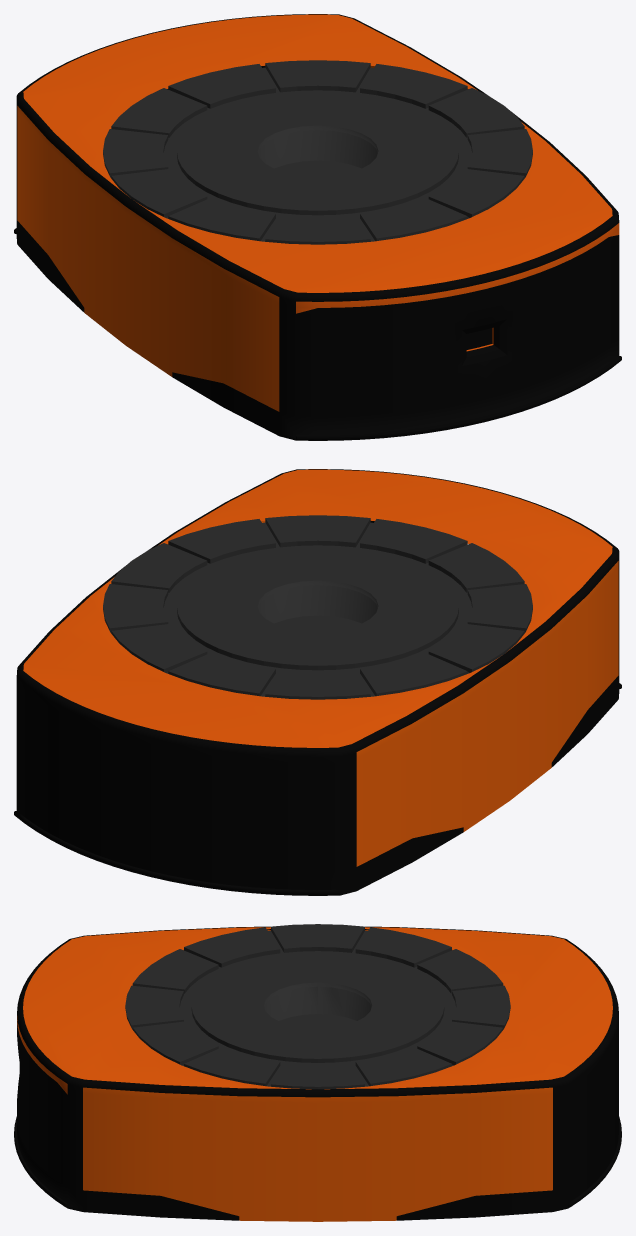
The picture shows the model from 3 angles, top to bottom: view 1: azimuth 30°, elevation 25°; view 2: azimuth 150°, elevation 25°; view 3: azimuth 270°, elevation 25°; orthographic projection. The views are drawn at different scales.
Parts seen in each view (by area): view 1: Base, Top, Bumper B; view 2: Base, Top, Bumper A; view 3: Base, Top, Bumper A, Bumper B.
Part boxes in pixels (x1,y1,x2,y2): Base: (16, 14, 619, 440); Top: (103, 60, 532, 244); Bumper B: (296, 356, 621, 439); Base: (16, 469, 619, 895); Top: (103, 515, 532, 699); Bumper A: (14, 811, 339, 894); Base: (17, 926, 618, 1221); Top: (125, 924, 510, 1089); Bumper A: (568, 1116, 621, 1207); Bumper B: (14, 1116, 67, 1207).
Bounding box in the file's own units: 0.66 × 0.2427 × 1.01.
